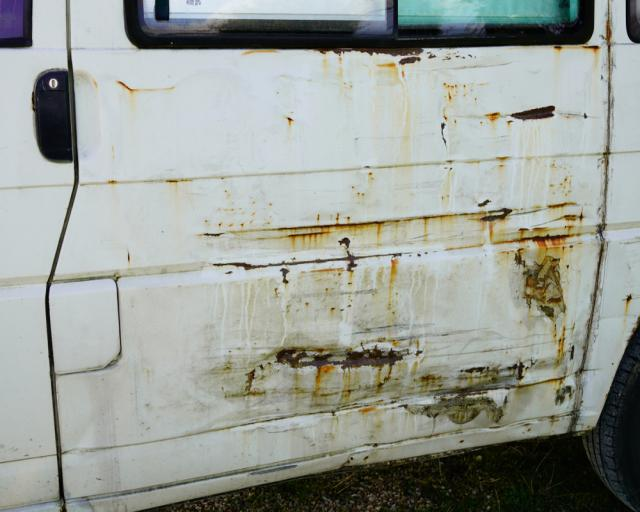scratch: (183, 50, 592, 448)
